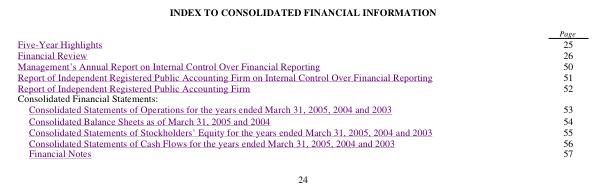table: (16, 28, 574, 158)
table column: (16, 28, 495, 158), (495, 28, 574, 158)
table column header: (16, 28, 574, 37)
table projected row header: (16, 92, 574, 103)
table row: (16, 37, 574, 48), (16, 48, 574, 59), (16, 59, 574, 70), (16, 70, 574, 81), (16, 81, 574, 92), (16, 92, 574, 103), (16, 103, 574, 114), (16, 114, 574, 125), (16, 125, 574, 136), (16, 136, 574, 147), (16, 147, 574, 158), (16, 28, 574, 37)
